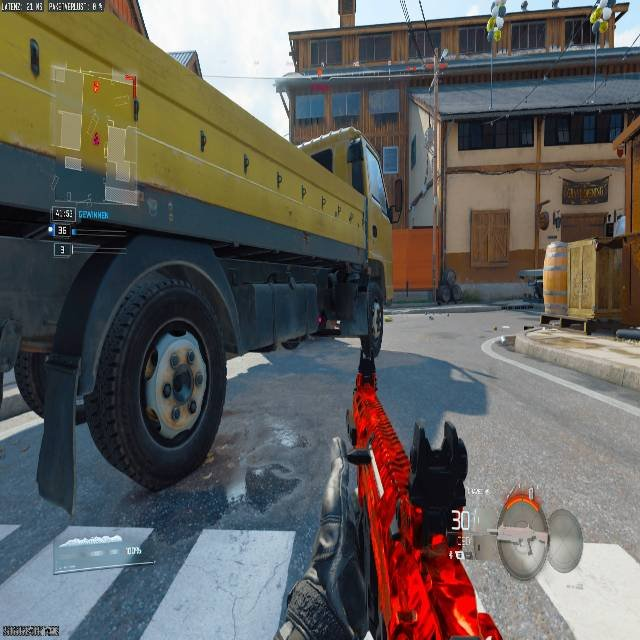player: (434, 266, 458, 305), (316, 309, 326, 329)
